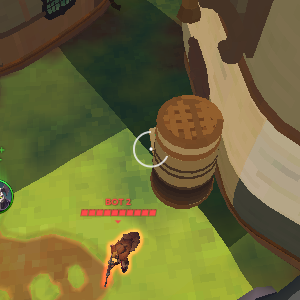model: (104, 224, 134, 277)
